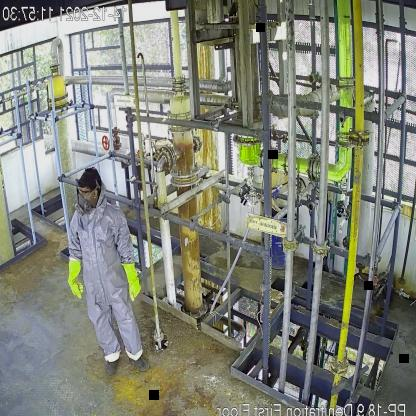mask: (74, 194, 91, 218)
